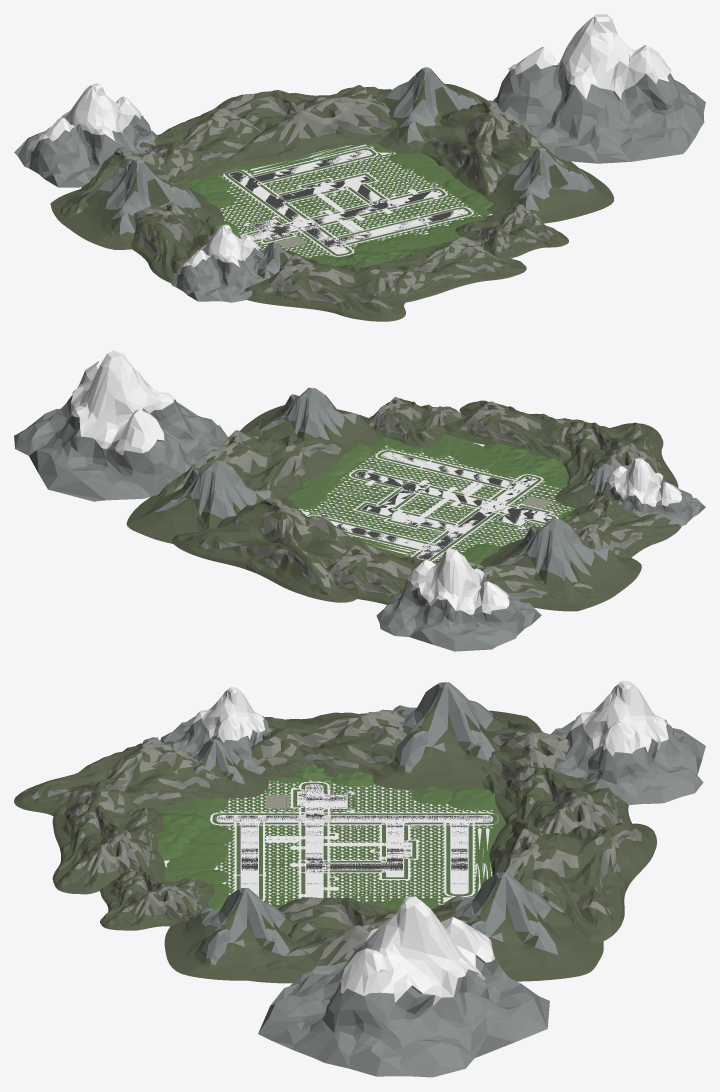
File: Land.glb
3 views of the same model, one above another, from view 1: azimuth 30°, elevation 25°; view 2: azimuth 150°, elevation 25°; view 3: azimuth 270°, elevation 25° (orthographic). The views are drawn at different scales.
Visible parts, largest first — view 1: SM_Generic_Mountains_Snow_01 (2), Plane, SM_Generic_Mountains_Grass_01 (6), SM_Generic_Mountains_Snow_01 (1), SM_Generic_Mountains_Grass_01 (7), SM_Generic_Mountains_Grass_01 (5), SM_Generic_Mountains_Grass_02 (1), SM_Generic_Mountains_Grass_02, SM_Generic_Mountains_Grass_01, SM_Generic_Mountains_Grass_01 (3), SM_Generic_Mountains_Snow_01, SM_Generic_Mountains_Grass_02 (3) (+7 smaller); view 2: SM_Generic_Mountains_Snow_01 (2), Plane, SM_Generic_Mountains_Grass_01 (6), SM_Generic_Mountains_Snow_01 (1), SM_Generic_Mountains_Grass_02 (1), SM_Generic_Mountains_Grass_01 (5), SM_Generic_Mountains_Grass_02 (3), SM_Generic_Mountains_Grass_01 (7), SM_Generic_Mountains_Grass_01, SM_Generic_Mountains_Grass_02, SM_Generic_Mountains_Grass_01 (2), SM_Generic_Mountains_Snow_01 (+8 smaller); view 3: SM_Generic_Mountains_Snow_01 (2), Plane, SM_Generic_Mountains_Grass_01 (6), SM_Generic_Mountains_Snow_01 (1), SM_Generic_Mountains_Grass_02 (1), SM_Generic_Mountains_Grass_02 (3), SM_Generic_Mountains_Grass_01 (7), SM_Generic_Mountains_Grass_02, SM_Generic_Mountains_Grass_01 (2), SM_Generic_Mountains_Grass_01, SM_Generic_Mountains_Grass_01 (3), SM_Generic_Mountains_Grass_01 (5) (+8 smaller).
Boxes of the visible parts, <box> form: SM_Generic_Mountains_Snow_01 (2): <box>492,14,705,163</box>; Plane: <box>219,144,482,257</box>; SM_Generic_Mountains_Grass_01 (6): <box>186,85,397,166</box>; SM_Generic_Mountains_Snow_01 (1): <box>14,83,157,187</box>; SM_Generic_Mountains_Grass_01 (7): <box>244,255,408,321</box>; SM_Generic_Mountains_Grass_01 (5): <box>421,100,578,196</box>; SM_Generic_Mountains_Grass_02 (1): <box>50,159,223,249</box>; SM_Generic_Mountains_Grass_02: <box>482,147,614,223</box>; SM_Generic_Mountains_Grass_01: <box>363,236,526,302</box>; SM_Generic_Mountains_Grass_01 (3): <box>139,108,266,180</box>; SM_Generic_Mountains_Snow_01: <box>171,224,265,302</box>; SM_Generic_Mountains_Grass_02 (3): <box>377,67,487,154</box>; SM_Generic_Mountains_Snow_01 (2): <box>14,350,228,501</box>; Plane: <box>299,442,573,561</box>; SM_Generic_Mountains_Grass_01 (6): <box>171,498,400,602</box>; SM_Generic_Mountains_Snow_01 (1): <box>376,549,541,651</box>; SM_Generic_Mountains_Grass_02 (1): <box>479,518,641,611</box>; SM_Generic_Mountains_Grass_01 (5): <box>157,422,348,498</box>; SM_Generic_Mountains_Grass_02 (3): <box>126,460,298,543</box>; SM_Generic_Mountains_Grass_01 (7): <box>562,421,678,488</box>; SM_Generic_Mountains_Grass_01: <box>443,400,587,462</box>; SM_Generic_Mountains_Grass_02: <box>240,387,380,452</box>; SM_Generic_Mountains_Grass_01 (2): <box>566,493,681,557</box>; SM_Generic_Mountains_Snow_01: <box>586,458,705,526</box>; SM_Generic_Mountains_Snow_01 (2): <box>258,896,549,1077</box>; Plane: <box>164,780,493,904</box>; SM_Generic_Mountains_Grass_01 (6): <box>489,817,656,942</box>; SM_Generic_Mountains_Snow_01 (1): <box>551,680,705,805</box>; SM_Generic_Mountains_Grass_02 (1): <box>372,682,541,790</box>; SM_Generic_Mountains_Grass_02 (3): <box>431,872,603,981</box>; SM_Generic_Mountains_Grass_01 (7): <box>14,737,227,817</box>; SM_Generic_Mountains_Grass_02: <box>164,888,304,980</box>; SM_Generic_Mountains_Grass_01 (2): <box>251,709,406,779</box>; SM_Generic_Mountains_Grass_01: <box>52,802,165,894</box>; SM_Generic_Mountains_Grass_01 (3): <box>495,765,631,838</box>; SM_Generic_Mountains_Grass_01 (5): <box>249,897,467,983</box>.
Size of the model in its own units: 541 by 85.74 by 429.
3 materials, 2 textured.
